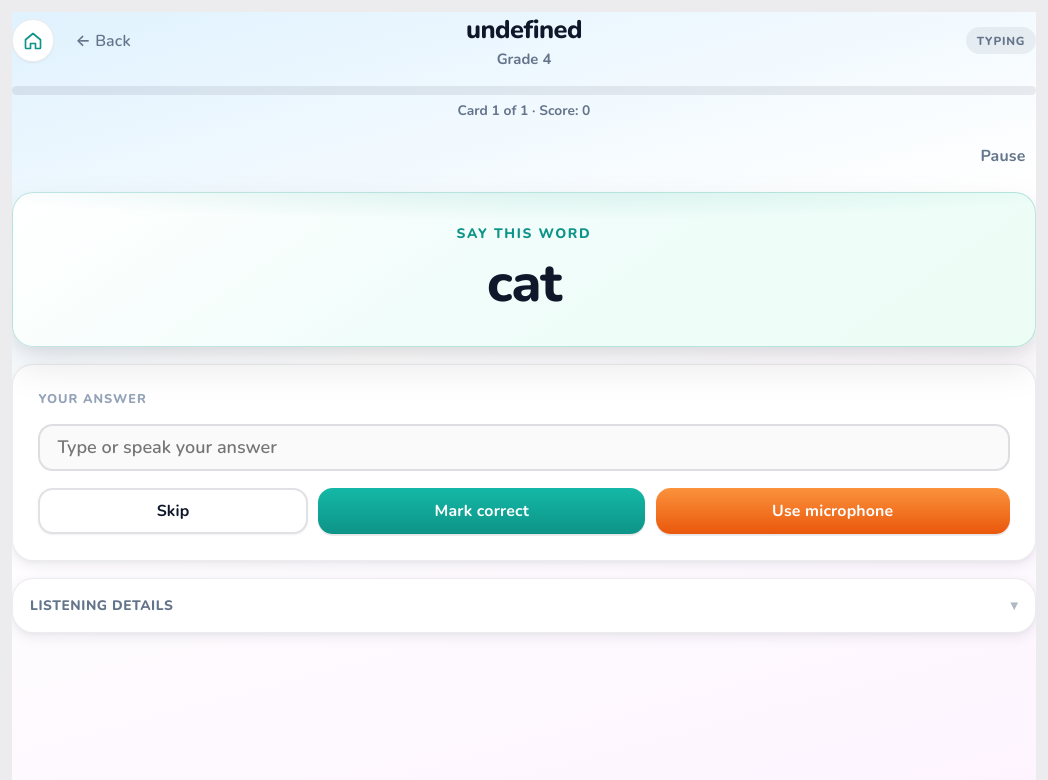
Test: play route (typing and voice) › microphone button › shows microphone errors
Click the button "Use microphone": point(833, 511) [656,488,1010,534]
Wait 150 ms
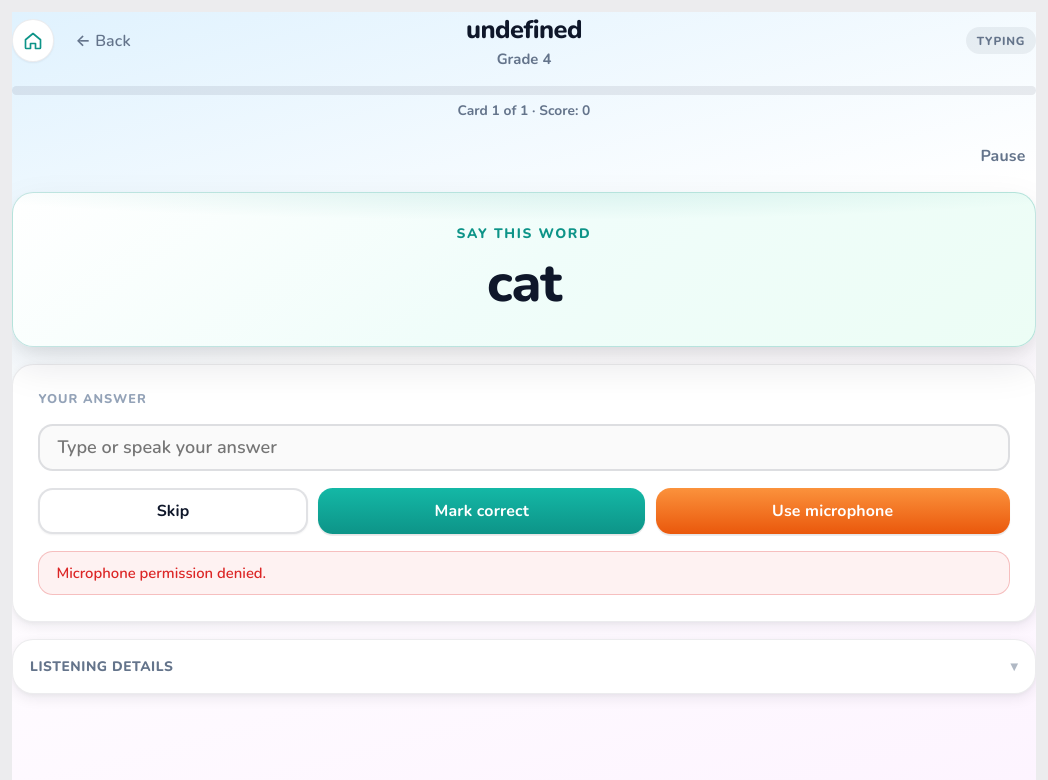
Check: the text "Microphone permission denied." is shown, box [38,551,1010,595]
